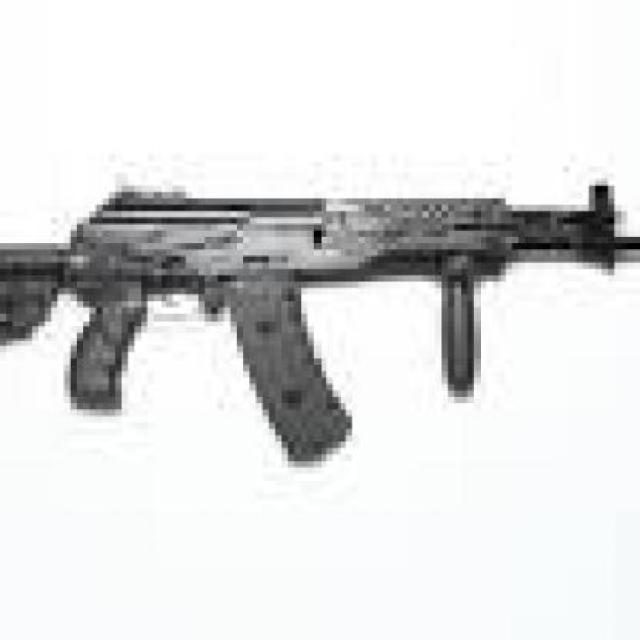weapon: (0, 179, 640, 472)
